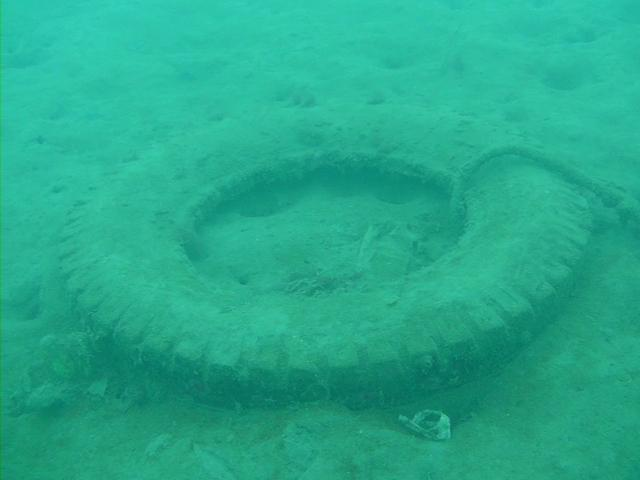tire: (53, 101, 594, 412)
